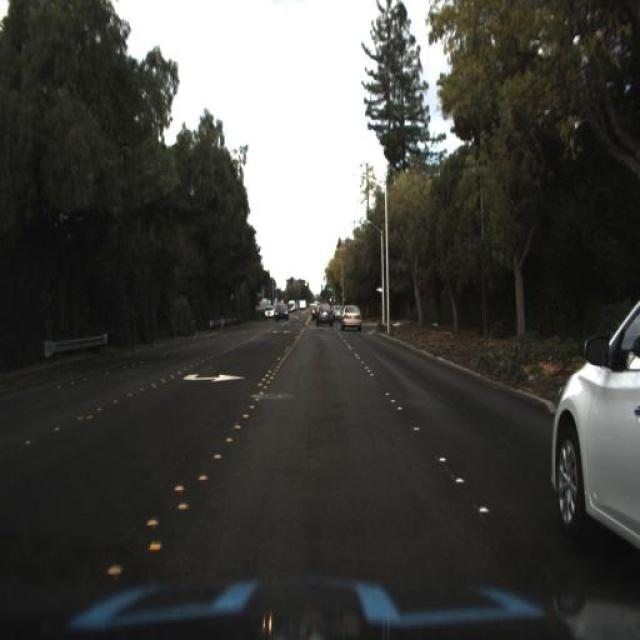car: (546, 271, 640, 560), (338, 298, 364, 332), (311, 300, 334, 330), (260, 300, 276, 324)
